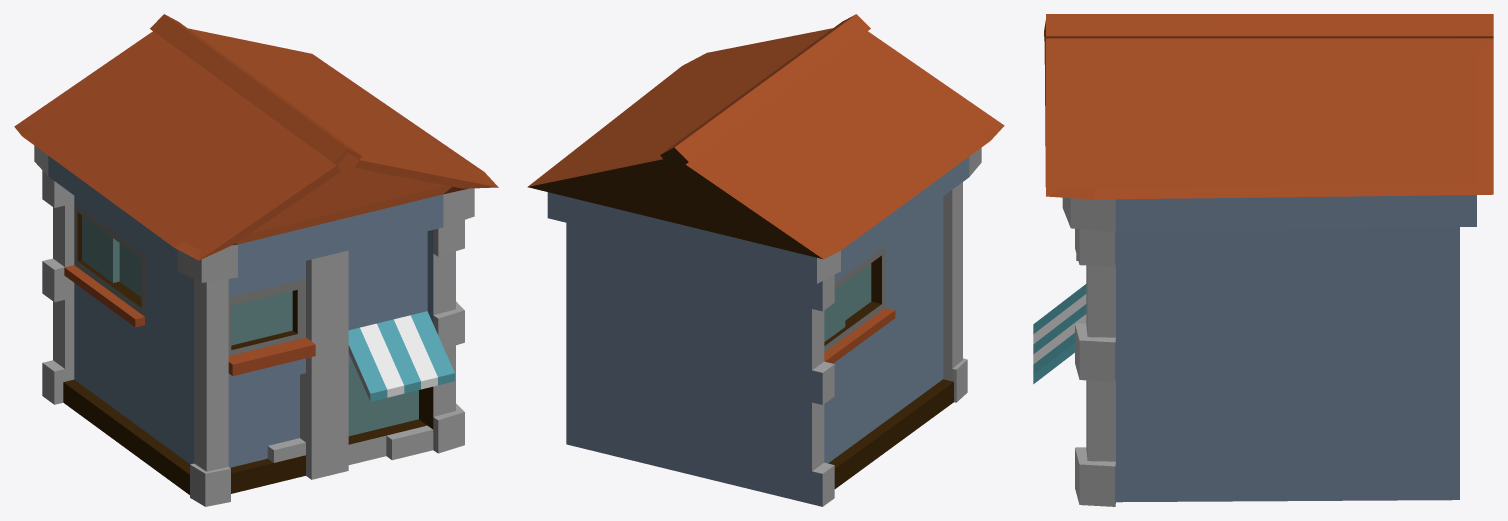
The model's file is Modelo TOON Casinha Telhado 1.fbx.
The picture shows the model from 3 angles, left to right: view 1: azimuth 30°, elevation 25°; view 2: azimuth 150°, elevation 25°; view 3: azimuth 270°, elevation 25°; orthographic projection. The views are drawn at different scales.
Parts seen in each view (by area): view 1: Cube; view 2: Cube; view 3: Cube.
Boxes of the visible parts, x1,y1,x2,y2 form: Cube: (14, 14, 498, 506); Cube: (527, 14, 1004, 506); Cube: (1033, 14, 1493, 506).
Size of the model in its own units: 254 by 265 by 267.
